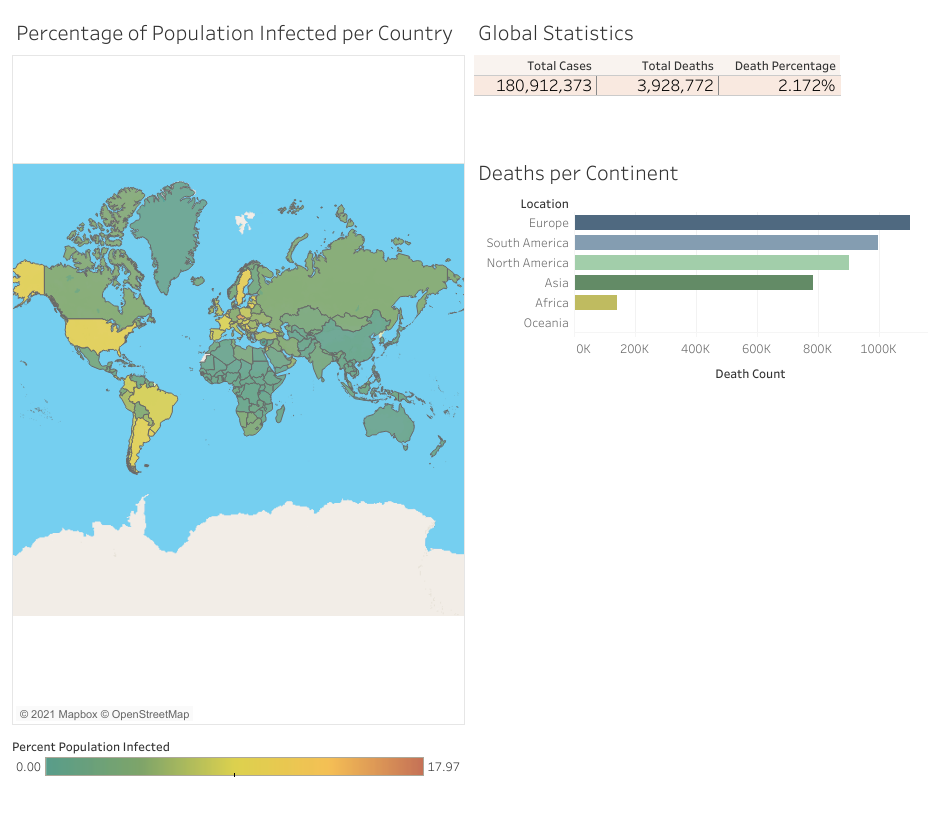

The page's visual inventory and layout, read from the dashboard file:
{"tool":"tableau","page":{"name":"Dashboard 1","canvas":[1000,1000],"units":"permille","ordinal":0},"visuals":[{"type":"worksheet","title":"Sheet 3","mark":"Automatic","box":[6.5,11.5,493.5,869.4]},{"type":"worksheet","title":"Sheet 1","mark":"Automatic","box":[500,11.5,493.5,169.3]},{"type":"worksheet","title":"Sheet 2","mark":"Automatic","rows":["Location"],"cols":["TotalDeathCount"],"box":[500,180.8,493.5,807.8]},{"type":"legend","title":"Sheet 3","param":"[federated.0hrlbsx1f1qp2m1evtlb711om56x].[sum:PercentPopulationInfected:qk]","box":[6.5,880.9,493.5,107.6]}]}

Visuals, with their boxes on the dashboard's canvas, which has no fixed pixel size, in thousandths of its width and height (x1, y1, x2, y2). These are canvas units, not pixel positions in the 938x825 screenshot, which may show the page scaled, cropped or inside an application window:
"Sheet 3" worksheet: x1=6, y1=12, x2=500, y2=881
"Sheet 1" worksheet: x1=500, y1=12, x2=994, y2=181
"Sheet 2" worksheet: x1=500, y1=181, x2=994, y2=989
"Sheet 3" legend: x1=6, y1=881, x2=500, y2=988
